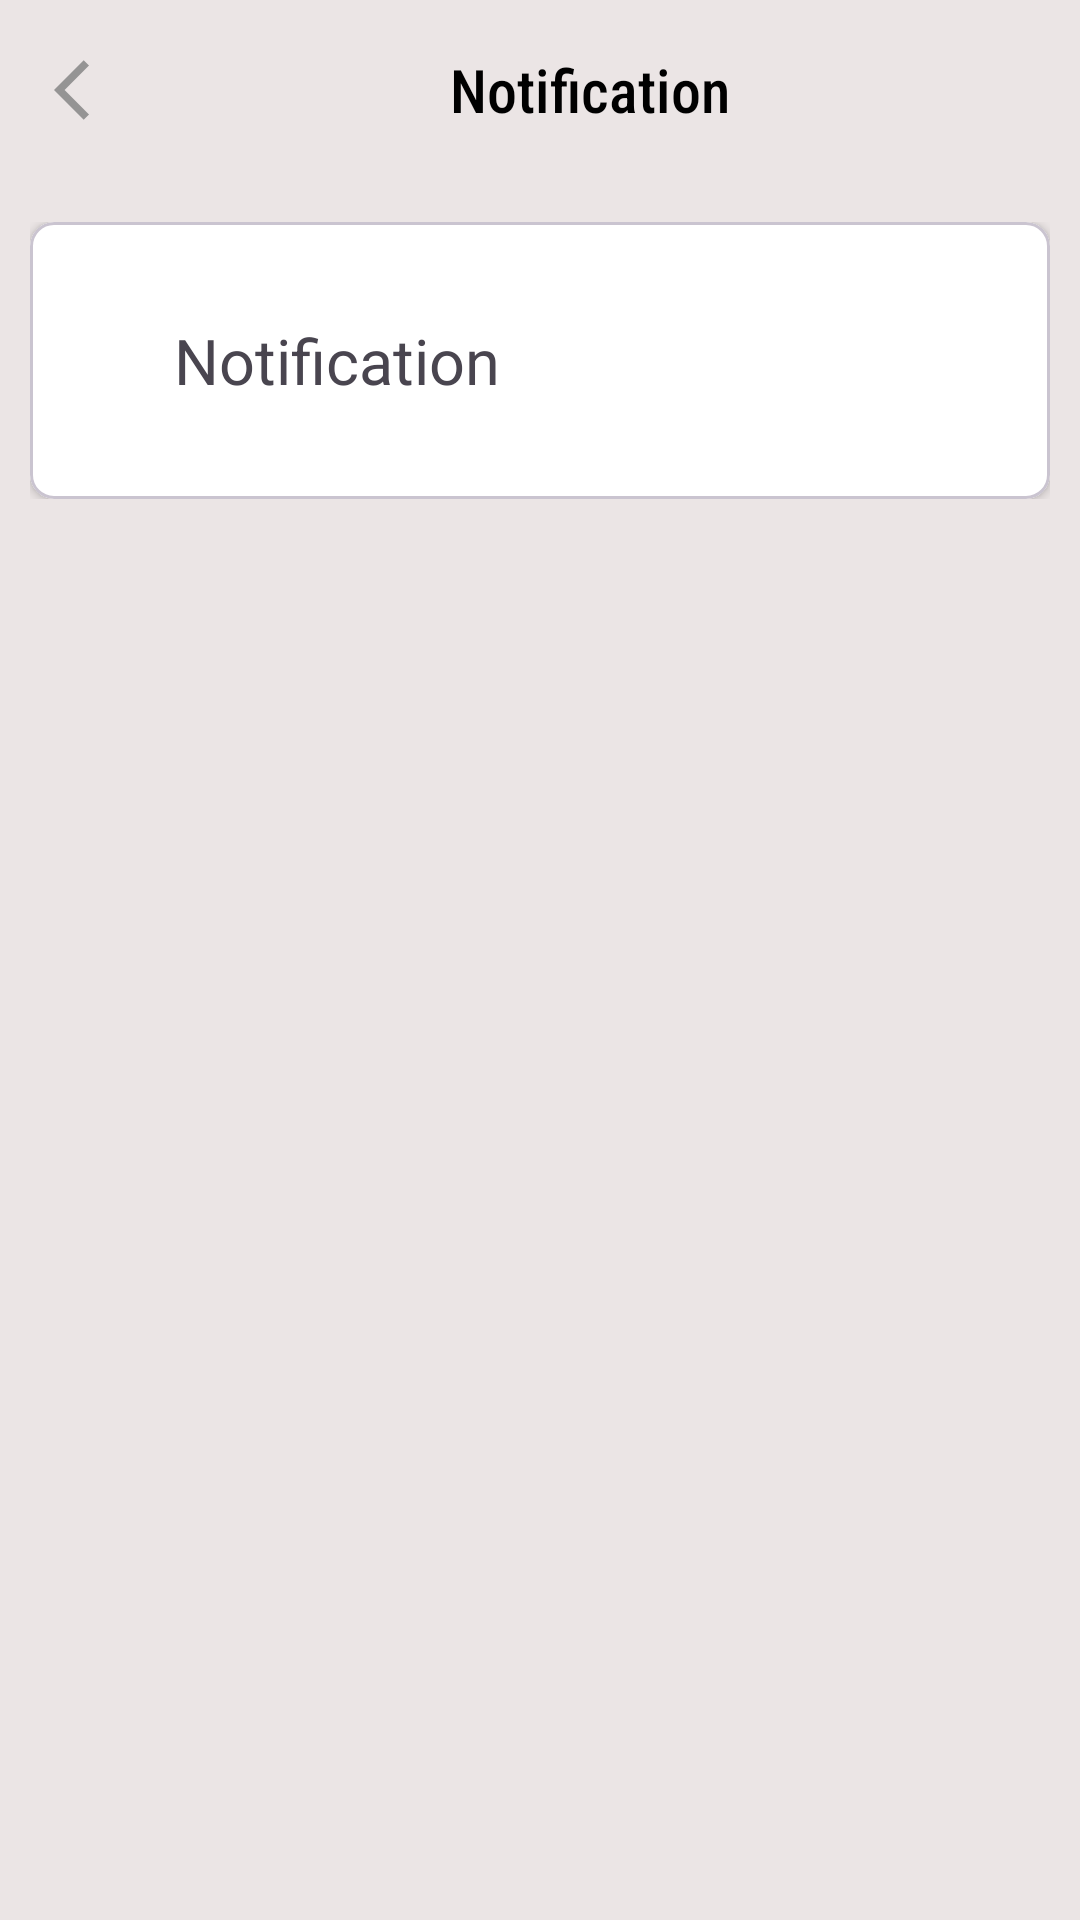

Screen size 1080×1920. Icon name, then its center in pixels as [x,y]:
back: [71,90]
